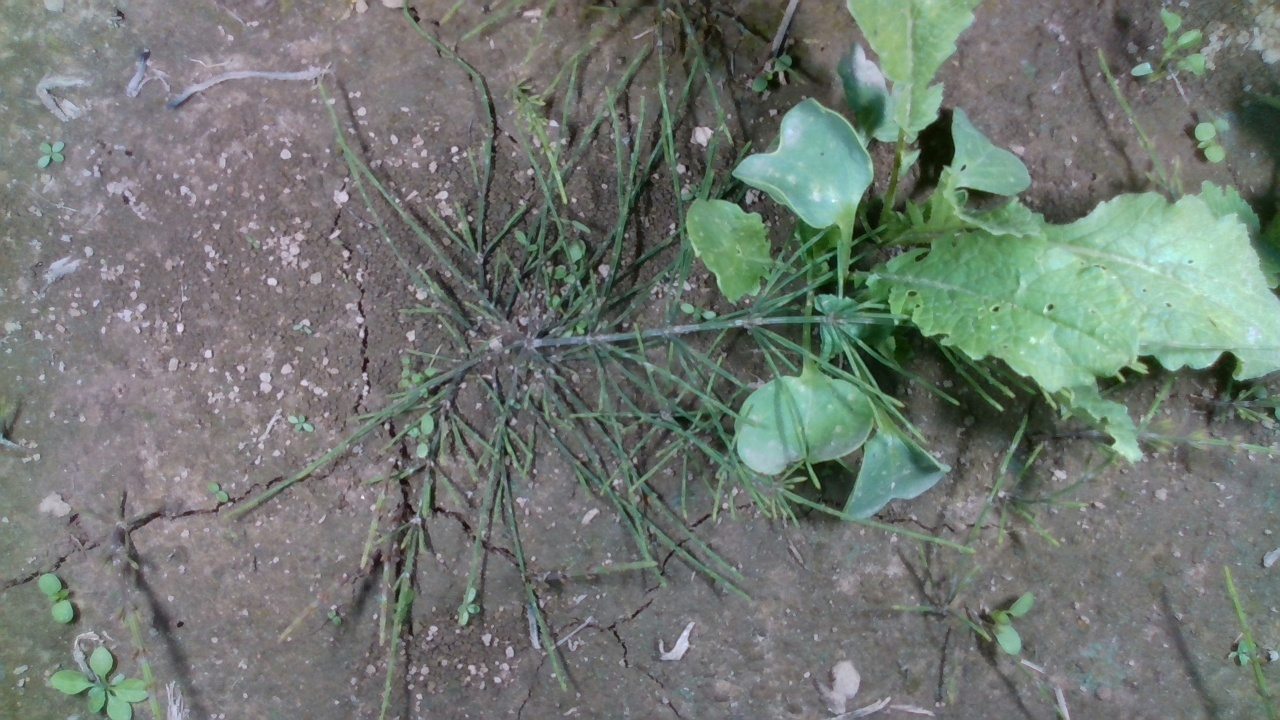weed: (36, 572, 74, 625), (286, 411, 316, 435), (207, 480, 229, 503)
